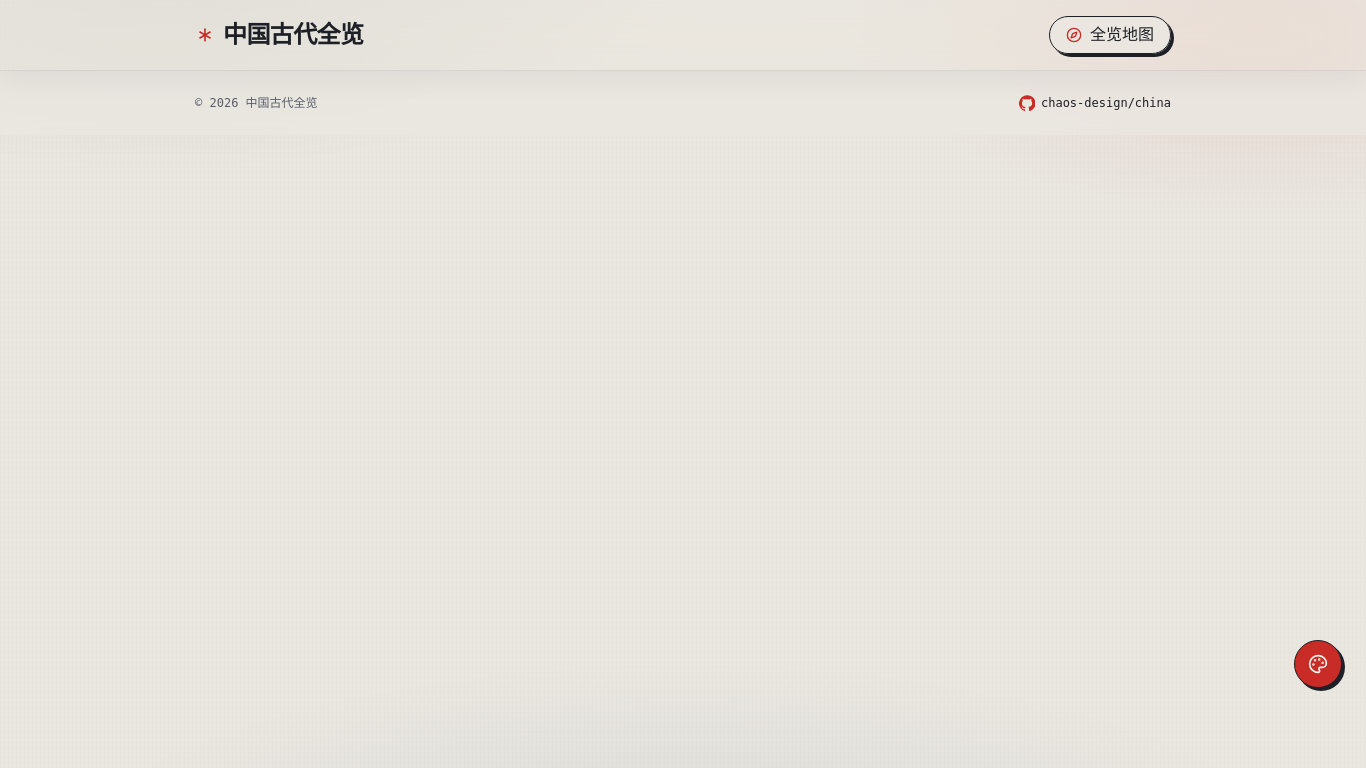
<SiteMenu /> keyboard and dismissal › closes when a pointer goes down outside the panel but not inside it
Click the button "全览地图" at (1110, 35), box [1049,16,1171,54]
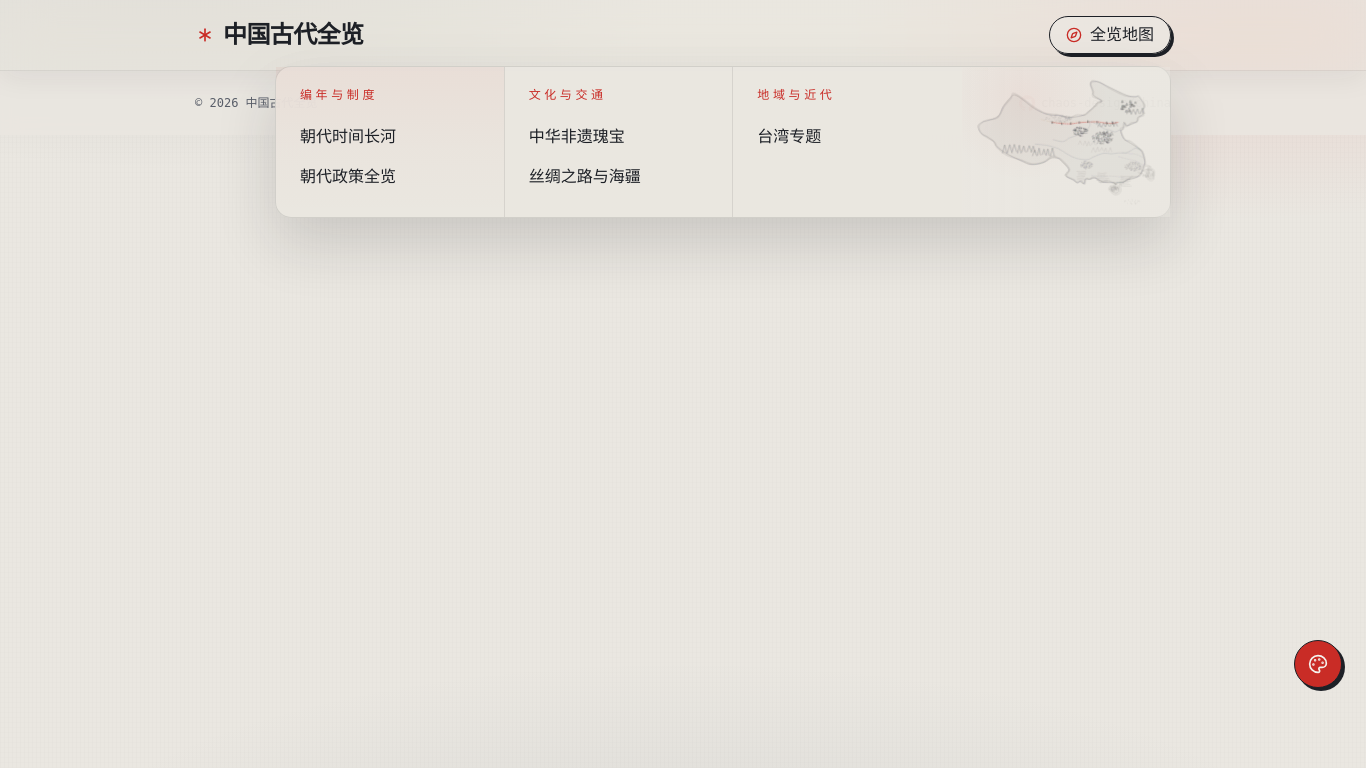
Press the mouse on the element named "全览目录" at (723, 142), box [275,66,1171,218]
Result: the element named "全览目录" is shown at [275,66,1171,218]
Press the mouse on the element that starts with "中国古代全览" at (683, 384), box [0,0,1365,767]
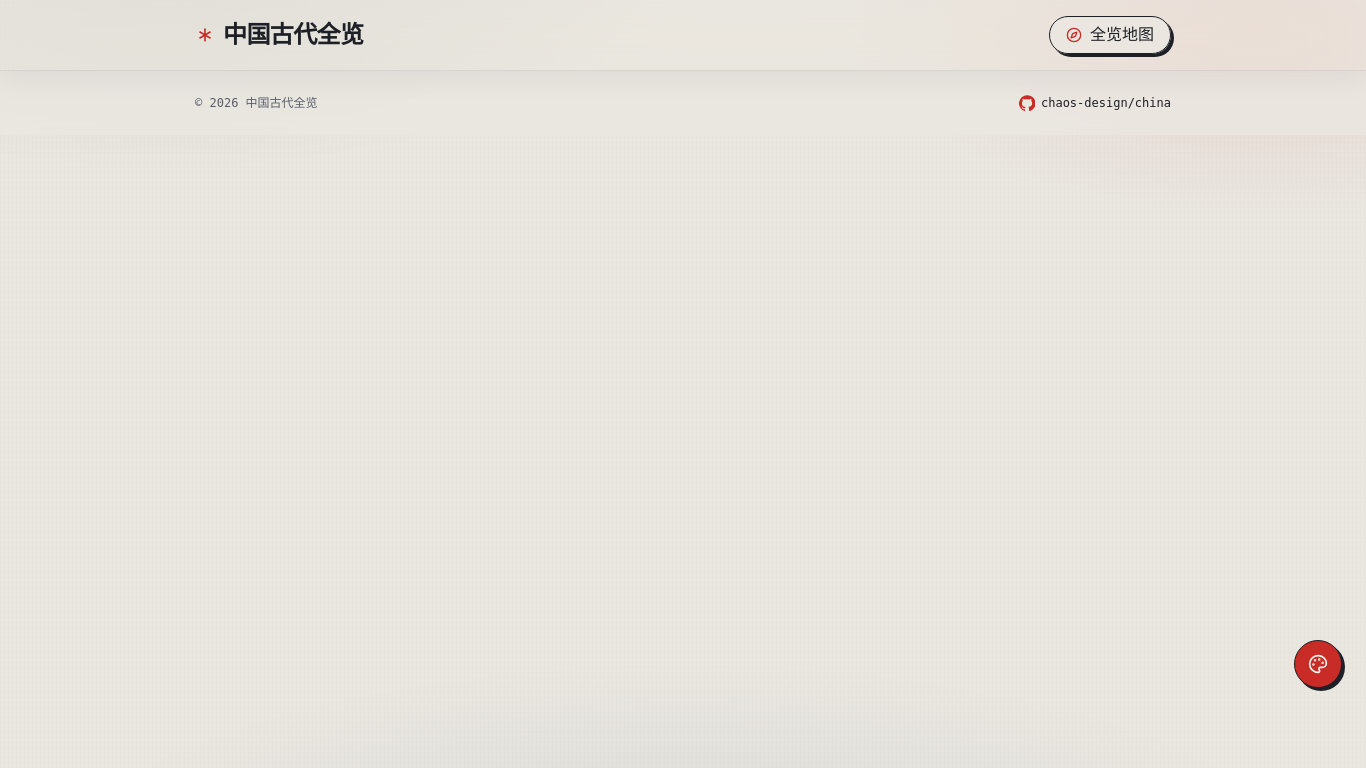
Result: the field labelled "全览目录" is gone
